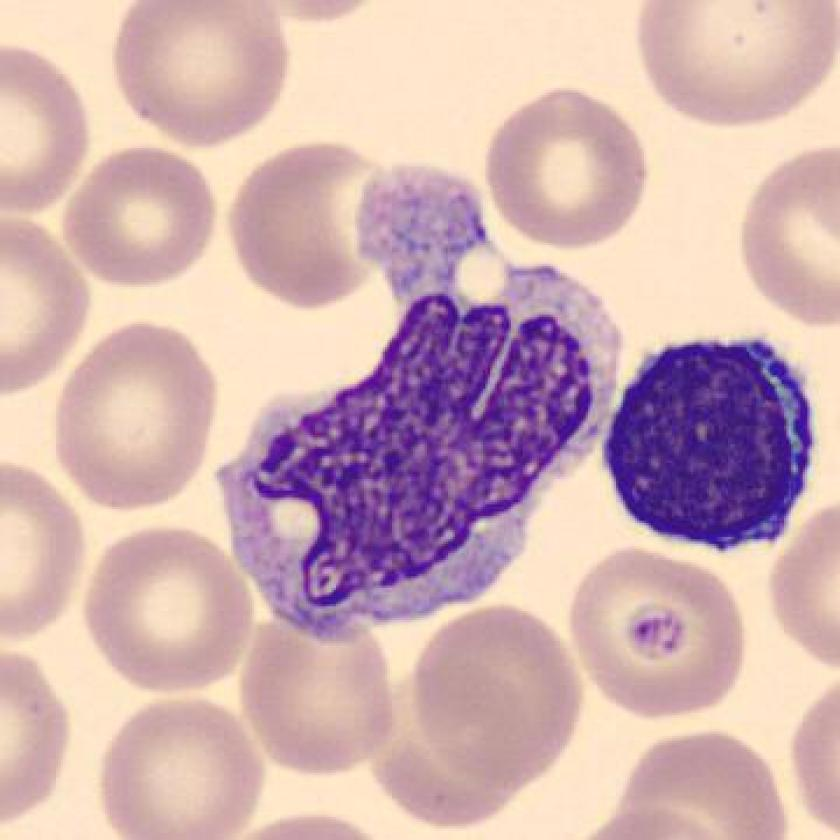monocyte: (202, 147, 645, 663)
